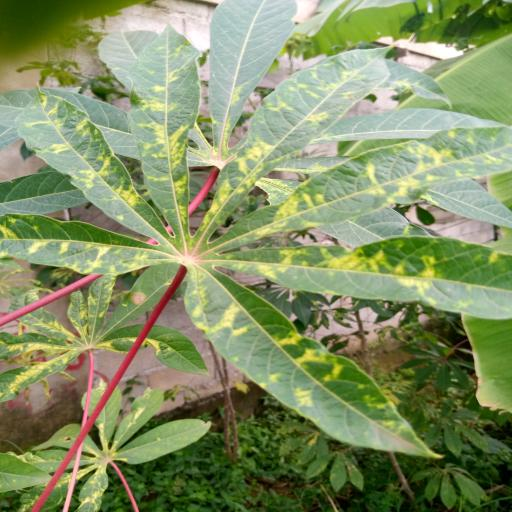Cassava_Mosaic: (0, 0, 512, 460), (2, 377, 218, 512), (3, 272, 204, 404)
